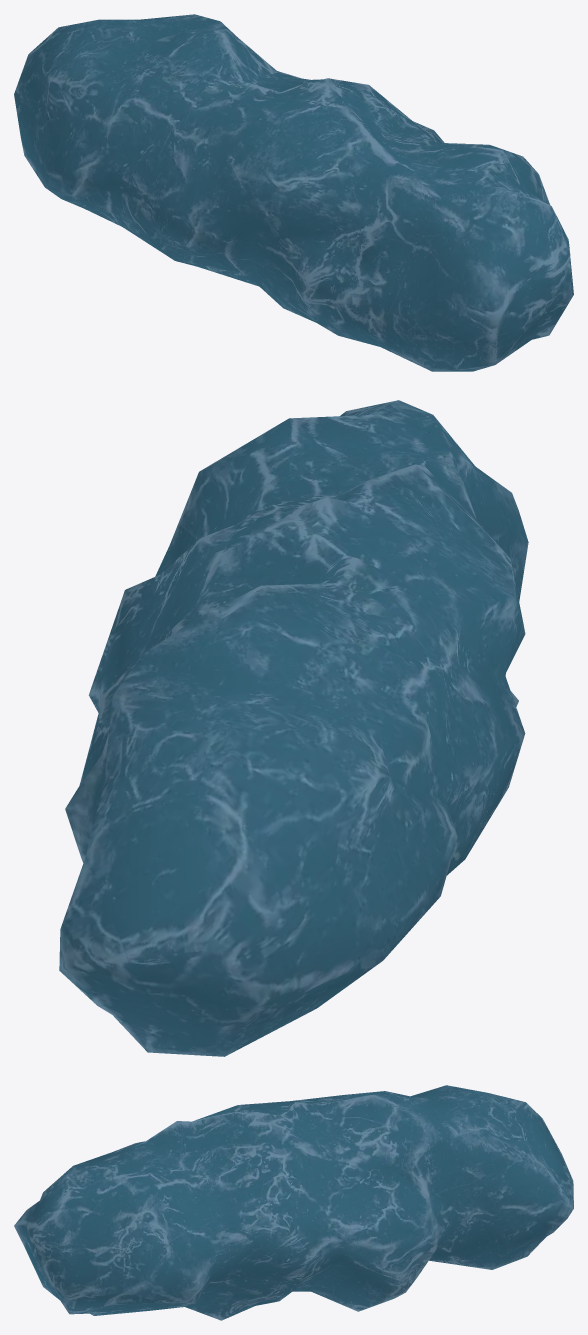
The model's file is ice_block-transformed.glb.
3 views of the same model, one above another, from view 1: azimuth 30°, elevation 25°; view 2: azimuth 150°, elevation 25°; view 3: azimuth 270°, elevation 25° (orthographic). The views are drawn at different scales.
Parts seen in each view (by area): view 1: defaultMaterial; view 2: defaultMaterial; view 3: defaultMaterial.
Boxes of the visible parts, x1=… form: defaultMaterial: x1=14, y1=14, x2=573, y2=371; defaultMaterial: x1=59, y1=400, x2=528, y2=1056; defaultMaterial: x1=14, y1=1085, x2=573, y2=1320.
Bounding box in the file's own units: 1.07 × 0.7722 × 2.
Materials: 1 (1 with a texture image).
